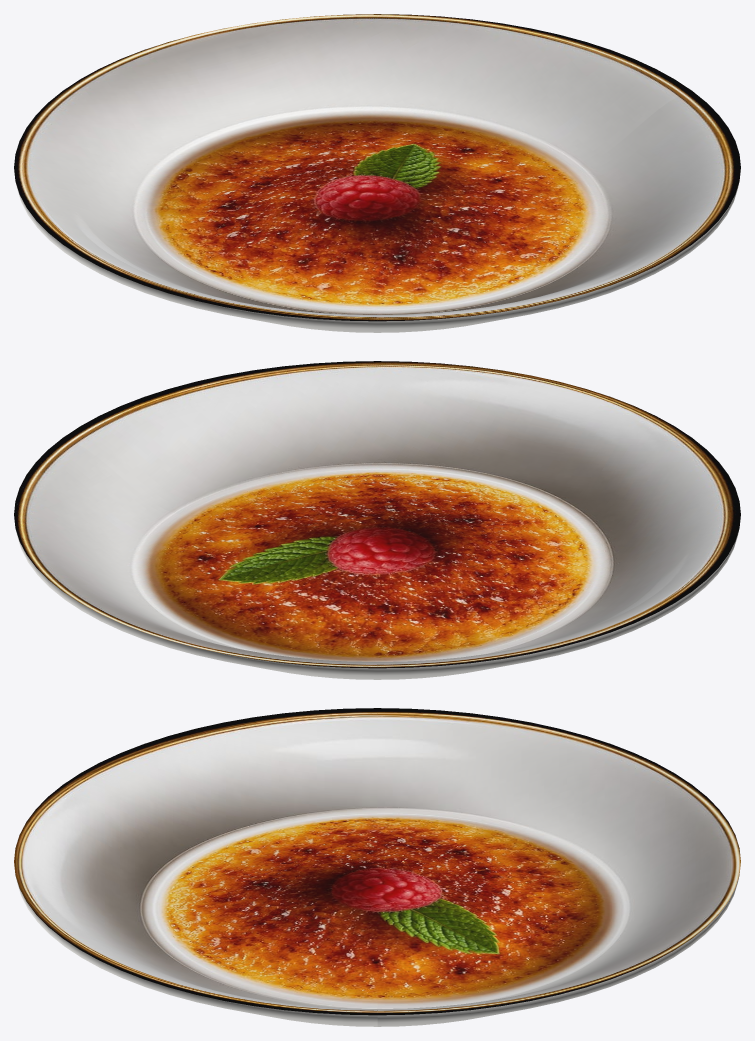
The model's file is creme-brulee.glb.
The picture shows the model from 3 angles, top to bottom: view 1: azimuth 30°, elevation 25°; view 2: azimuth 150°, elevation 25°; view 3: azimuth 270°, elevation 25°; orthographic projection.
Parts seen in each view (by area): view 1: dish; view 2: dish; view 3: dish.
Boxes of the visible parts, <box> form: dish: <box>14,14,740,332</box>; dish: <box>14,361,740,679</box>; dish: <box>14,708,740,1026</box>.
Size of the model in its own units: 0.24 by 0.025 by 0.24.
2 materials, 1 textured.
